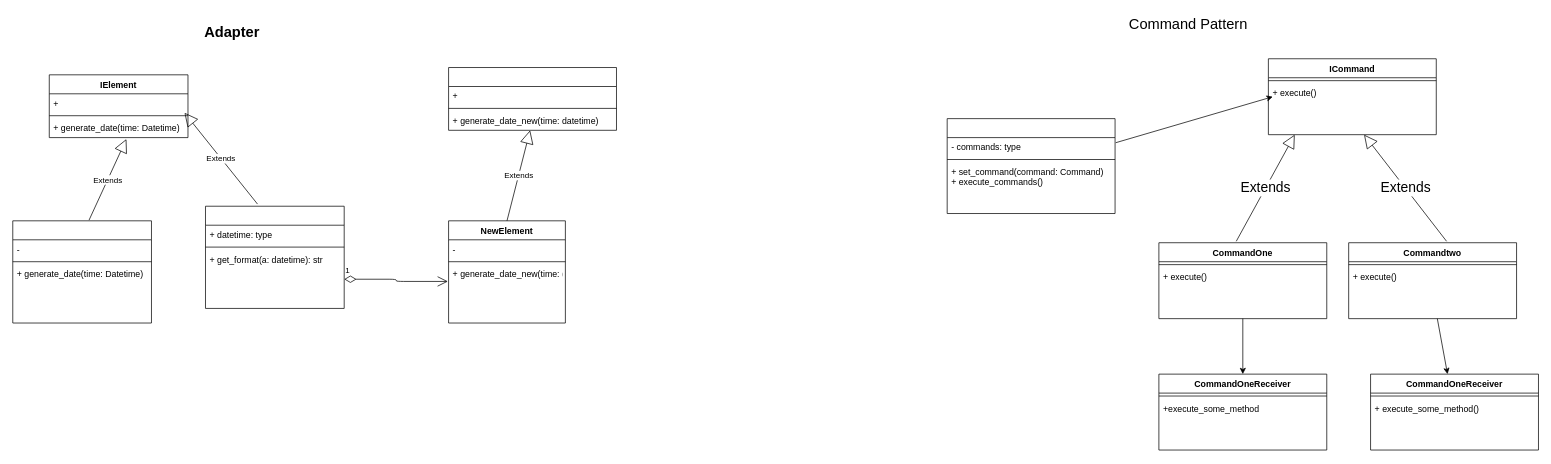
Some shapes in this 1551 by 464 pixel diagram are drawn without their labels. Each missing label, with the box of its shape:
DateFormatAdapter: (205, 205, 344, 308)
INewElement: (448, 67, 616, 130)
Invoker: (946, 118, 1115, 214)
LegacyElement: (12, 220, 151, 323)
